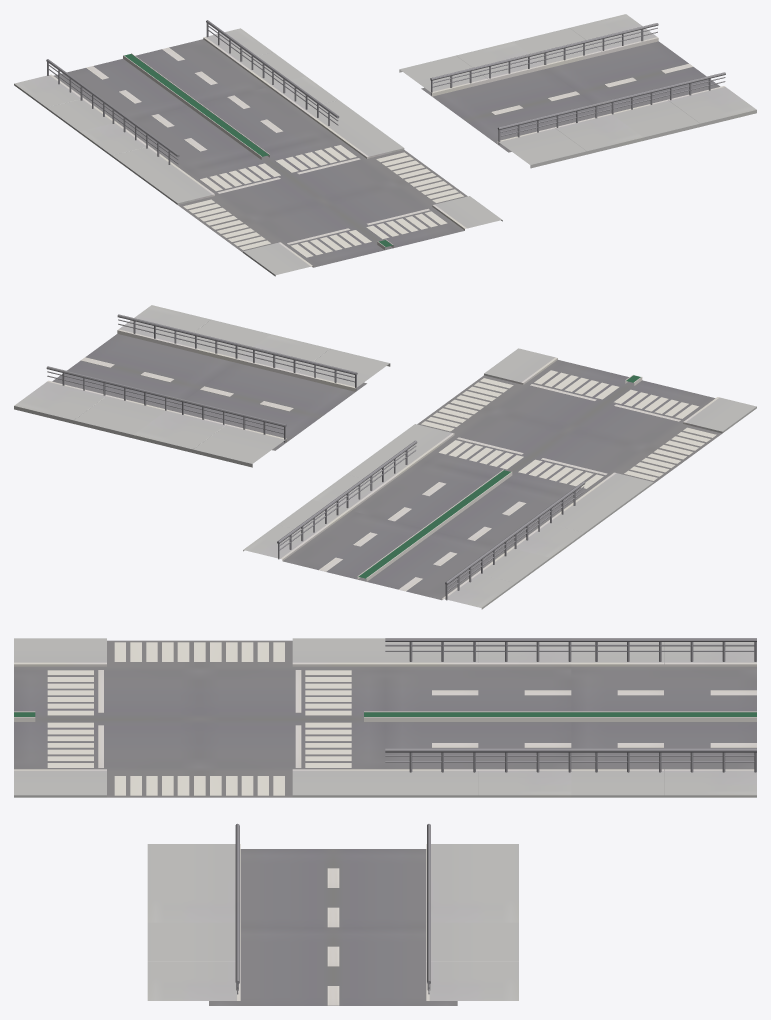
Rendered from AssetsCityGround.fbx.
The picture shows the model from 3 angles, top to bottom: view 1: azimuth 30°, elevation 25°; view 2: azimuth 150°, elevation 25°; view 3: azimuth 270°, elevation 25°; orthographic projection. The views are drawn at different scales.
Parts seen in each view (by area): view 1: Street, MainStreet, Crossing; view 2: Street, MainStreet, Crossing; view 3: MainStreet, Crossing, Street.
Boxes of the visible parts, bbox=[...] form: Street: bbox=[399, 14, 756, 168]; MainStreet: bbox=[14, 20, 370, 180]; Crossing: bbox=[145, 124, 502, 276]; Street: bbox=[14, 305, 390, 467]; MainStreet: bbox=[243, 440, 619, 609]; Crossing: bbox=[381, 348, 756, 508]; MainStreet: bbox=[385, 638, 756, 797]; Crossing: bbox=[14, 638, 385, 797]; Street: bbox=[147, 823, 518, 1005].
Size of the model in its own units: 38.91 by 1.28 by 33.4.
